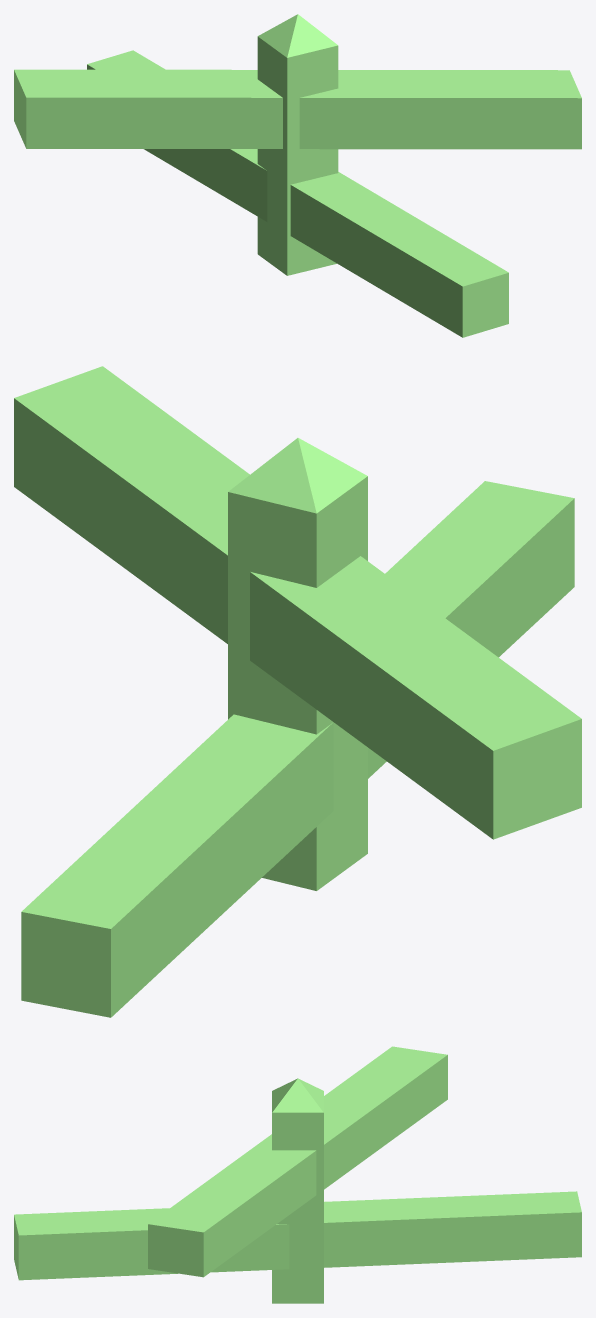
File: glbModel.glb
3 views of the same model, one above another, from view 1: azimuth 30°, elevation 25°; view 2: azimuth 150°, elevation 25°; view 3: azimuth 270°, elevation 25° (orthographic). The views are drawn at different scales.
Visible parts, largest first — view 1: Cube.002; view 2: Cube.002; view 3: Cube.002.
Boxes of the visible parts, x1=… form: Cube.002: x1=14, y1=14, x2=581, y2=337; Cube.002: x1=14, y1=366, x2=581, y2=1017; Cube.002: x1=14, y1=1046, x2=581, y2=1303.
Size of the model in its own units: 10.22 by 5.49 by 13.19.
